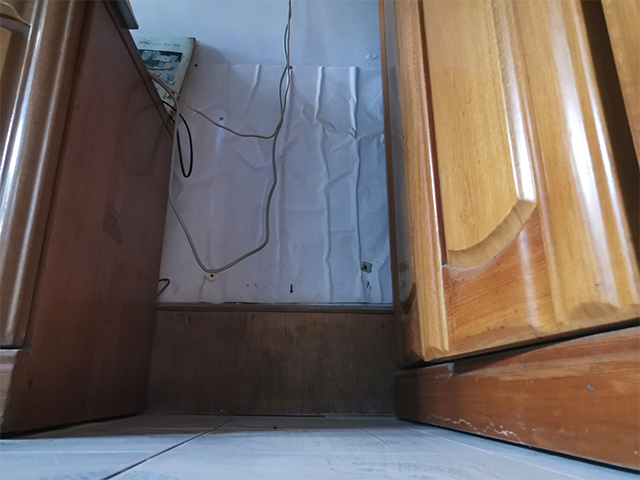cabinet: (376, 1, 640, 475), (1, 1, 182, 438)
